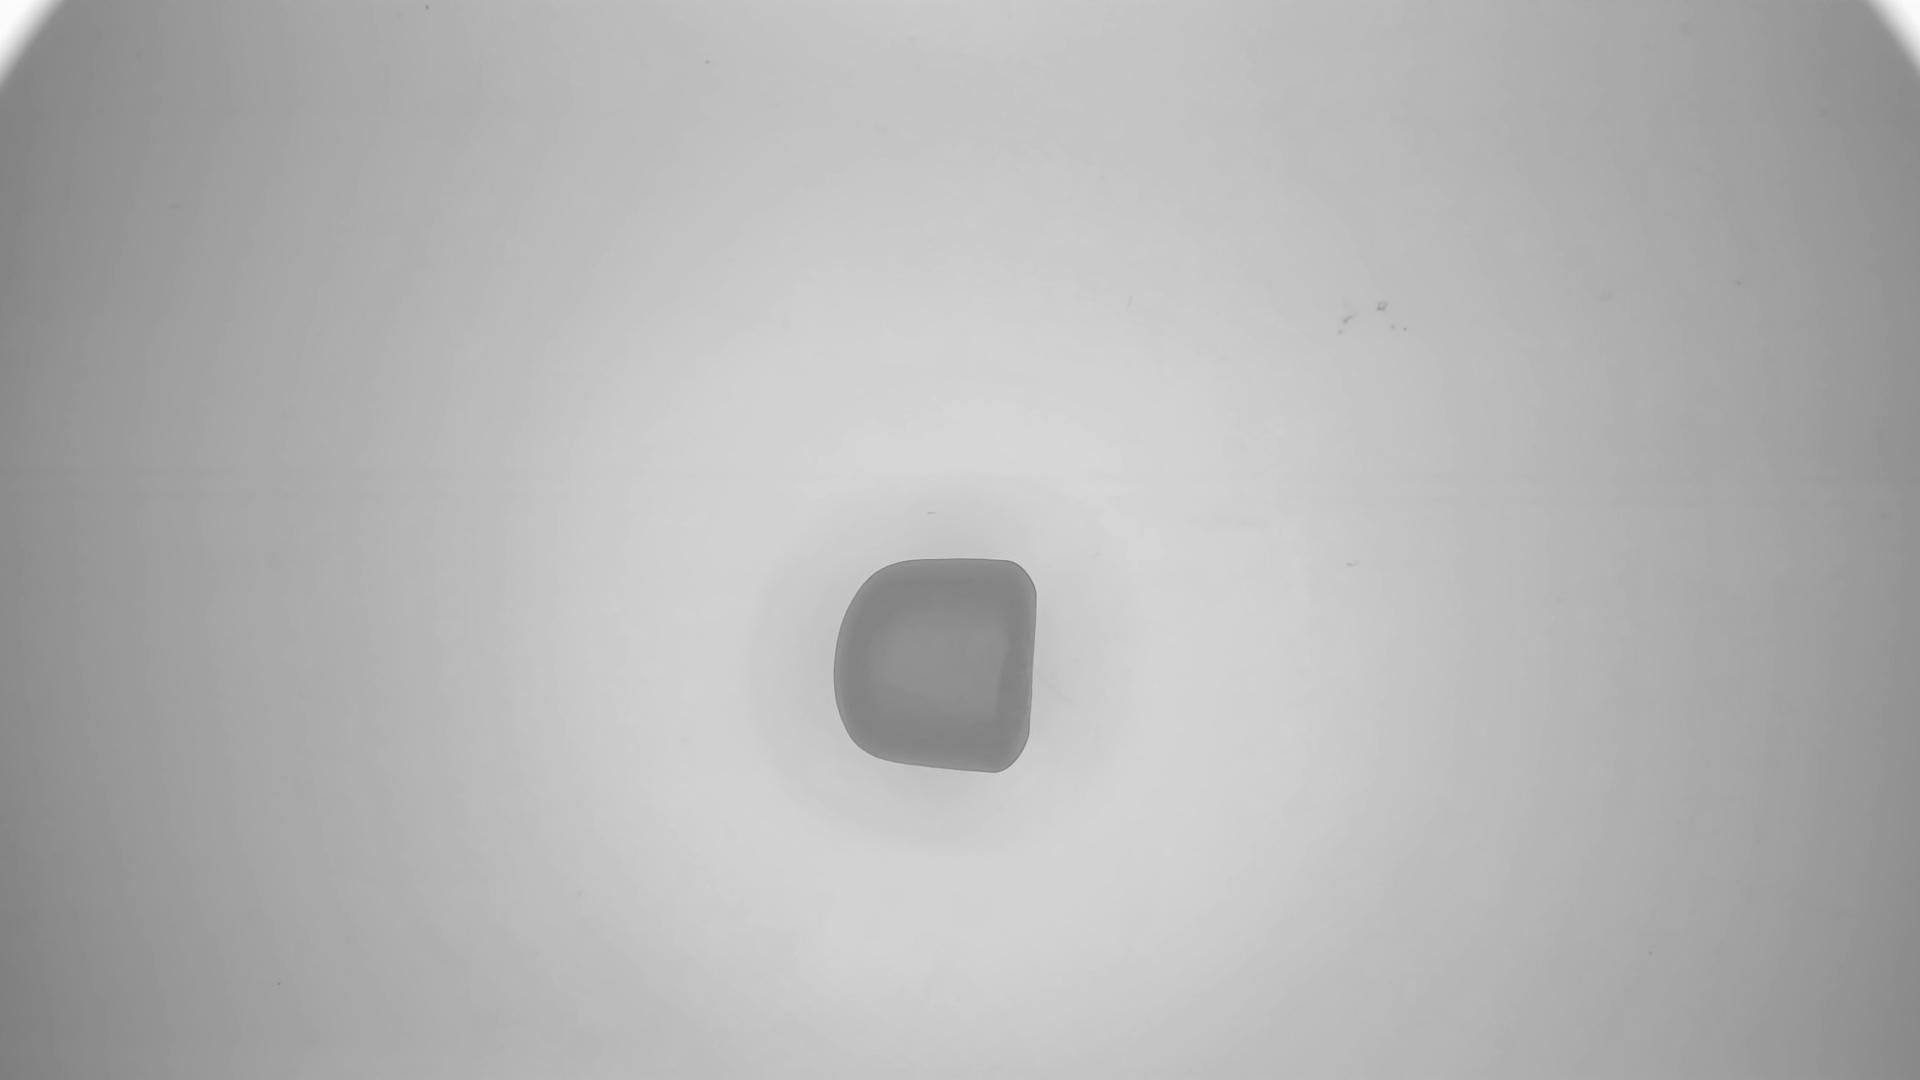normal: (832, 555, 1039, 778)
